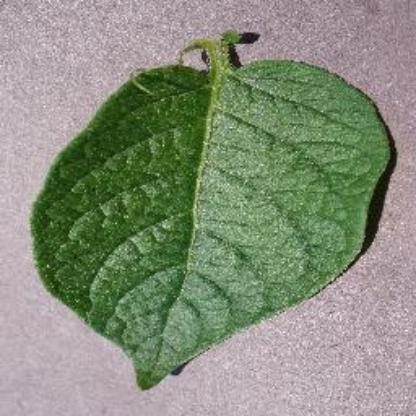Healthy-plant: (21, 30, 406, 401)
